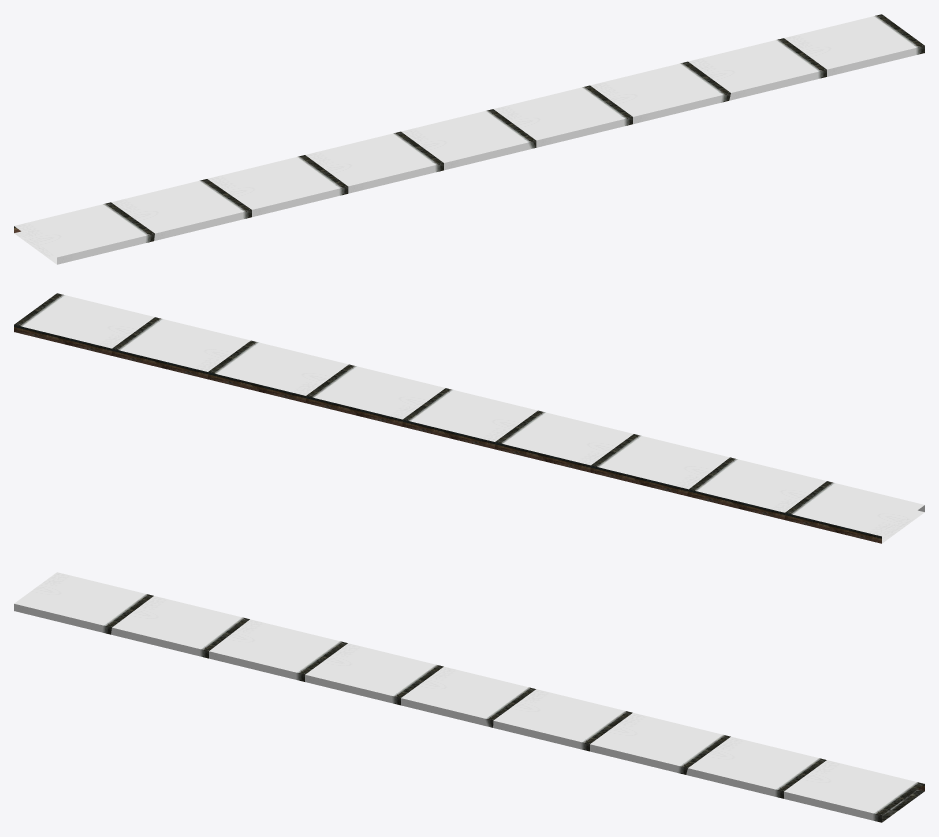
The model's file is dirt fixed.fbx.
3 renders of one model, top to bottom at view 1: azimuth 30°, elevation 25°; view 2: azimuth 150°, elevation 25°; view 3: azimuth 330°, elevation 25°, orthographic.
Visible parts, largest first — view 1: grond__8_; view 2: grond__8_; view 3: grond__8_.
Part boxes in pixels (box(x1,y1,x2,y2)): grond__8_: box(14, 14, 924, 264); grond__8_: box(14, 293, 924, 543); grond__8_: box(14, 572, 924, 822).
Bounding box in the file's own units: 21392 × 173 × 1839.
